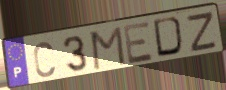3: (62, 35, 90, 72)
C: (32, 40, 57, 80)
D: (152, 15, 188, 60)
E: (121, 20, 156, 66)
M: (90, 24, 128, 72)
Z: (186, 9, 218, 54)
